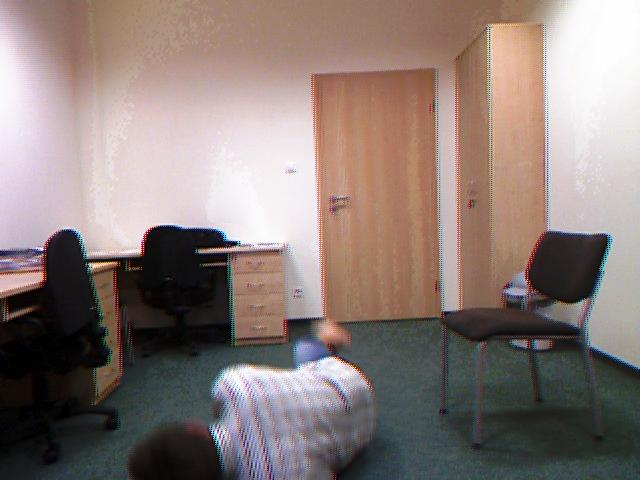fall: (126, 325, 400, 480)
